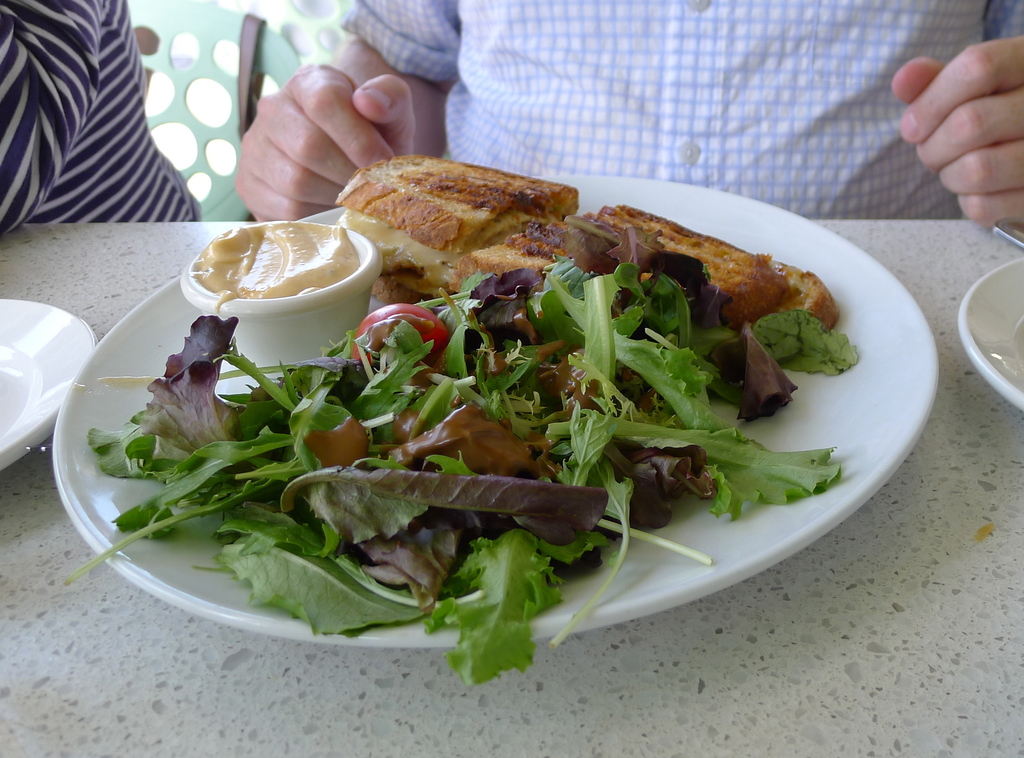sandwich: (445, 195, 837, 372), (337, 152, 584, 306)
